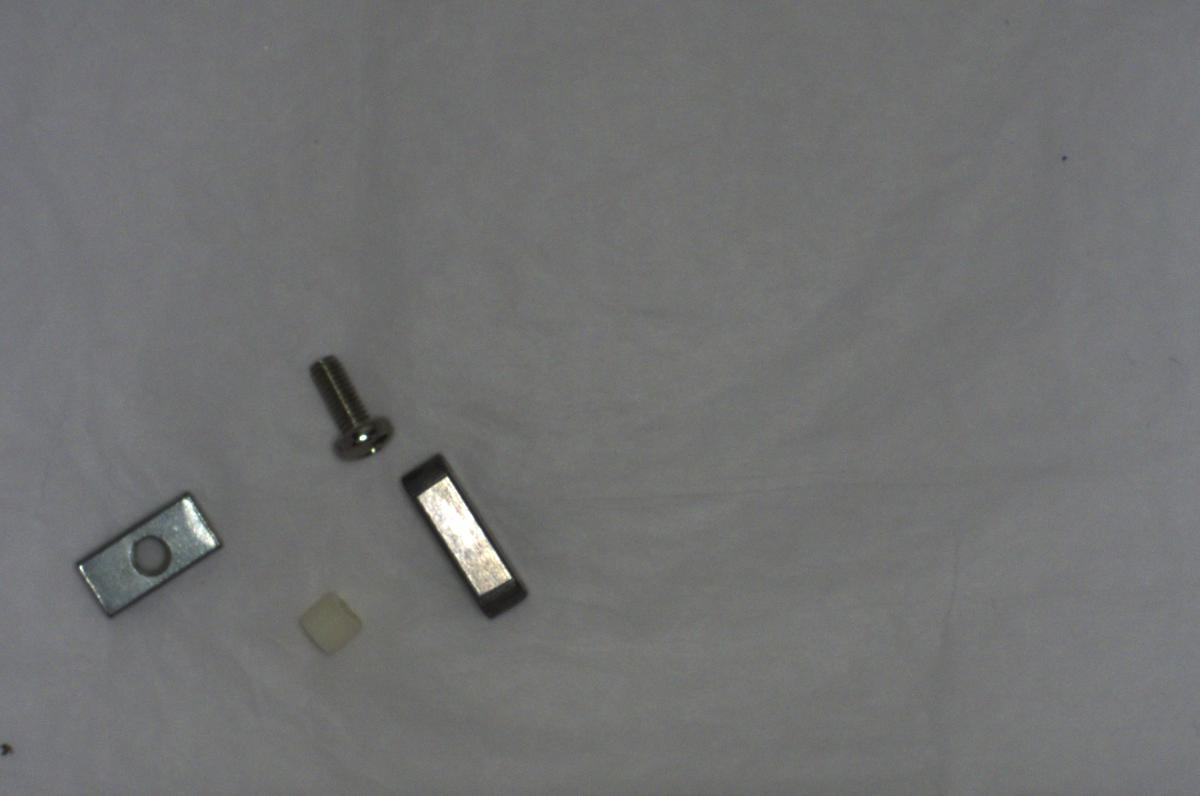Keybar: (393, 446, 533, 626)
Plastic cushion pillar: (295, 581, 367, 656)
Rectangular nut: (68, 481, 226, 632)
Round head screw: (304, 350, 393, 467)
